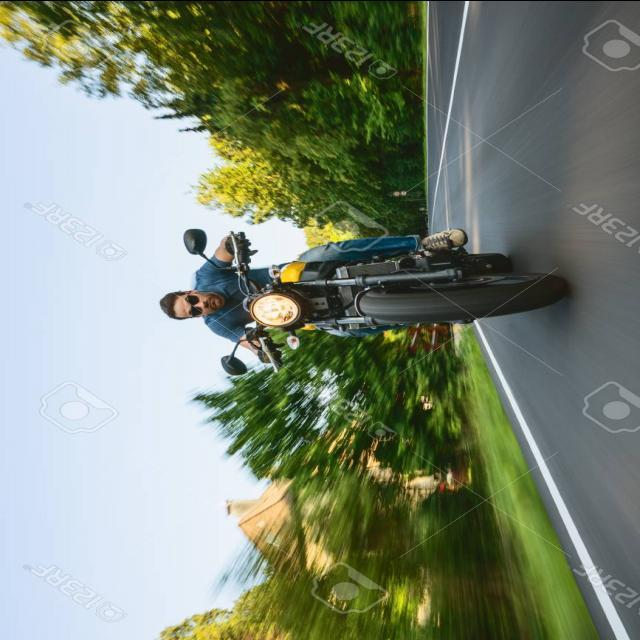motorcycle: (158, 220, 555, 380)
